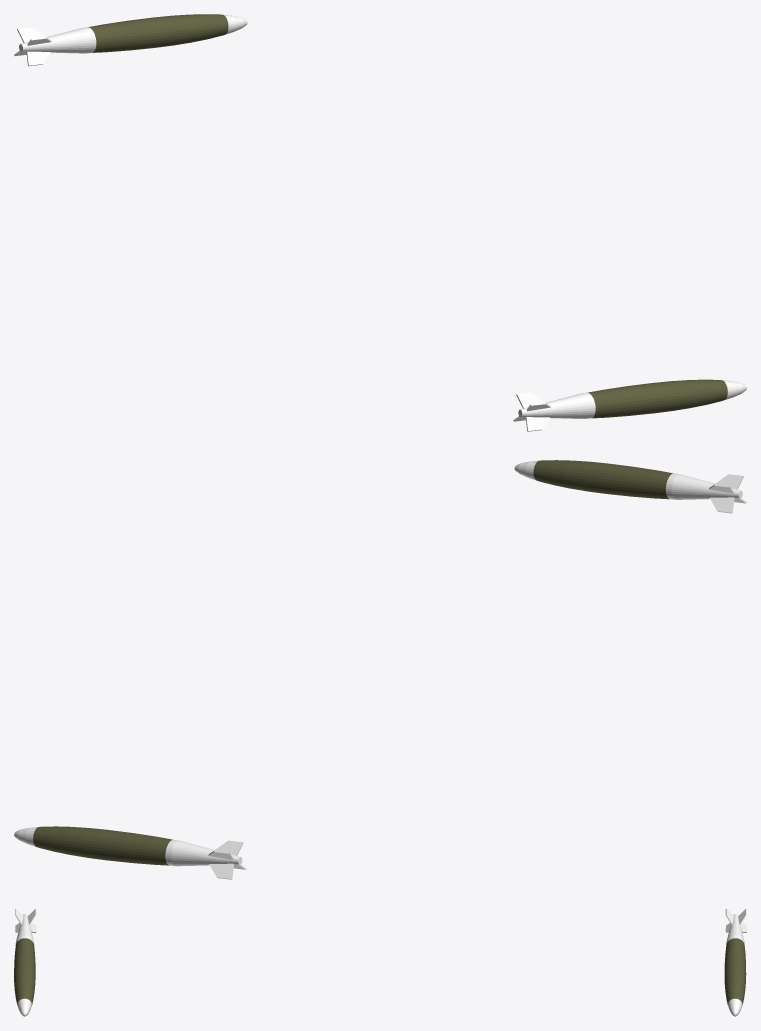
Rendered from a10cgbu38292.glb.
The picture shows the model from 3 angles, top to bottom: view 1: azimuth 30°, elevation 25°; view 2: azimuth 150°, elevation 25°; view 3: azimuth 270°, elevation 25°; orthographic projection. The views are drawn at different scales.
Parts seen in each view (by area): view 1: 円柱.003, 円柱.007; view 2: 円柱.007, 円柱.003; view 3: 円柱.003, 円柱.007.
Boxes of the visible parts, left/top/right/bottom form: 円柱.003: left=513, top=379, right=746, bottom=431; 円柱.007: left=14, top=14, right=247, bottom=66; 円柱.007: left=14, top=826, right=246, bottom=879; 円柱.003: left=514, top=460, right=746, bottom=513; 円柱.003: left=14, top=908, right=36, bottom=1016; 円柱.007: left=724, top=908, right=746, bottom=1016.
Size of the model in its own units: 2.4 by 0.4873 by 9.45.
Materials: 3 (1 with a texture image).
